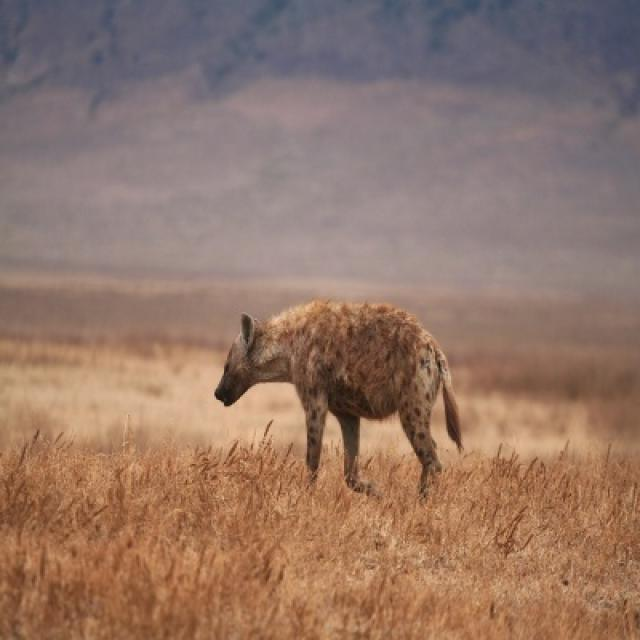hyena: (213, 301, 464, 498)
